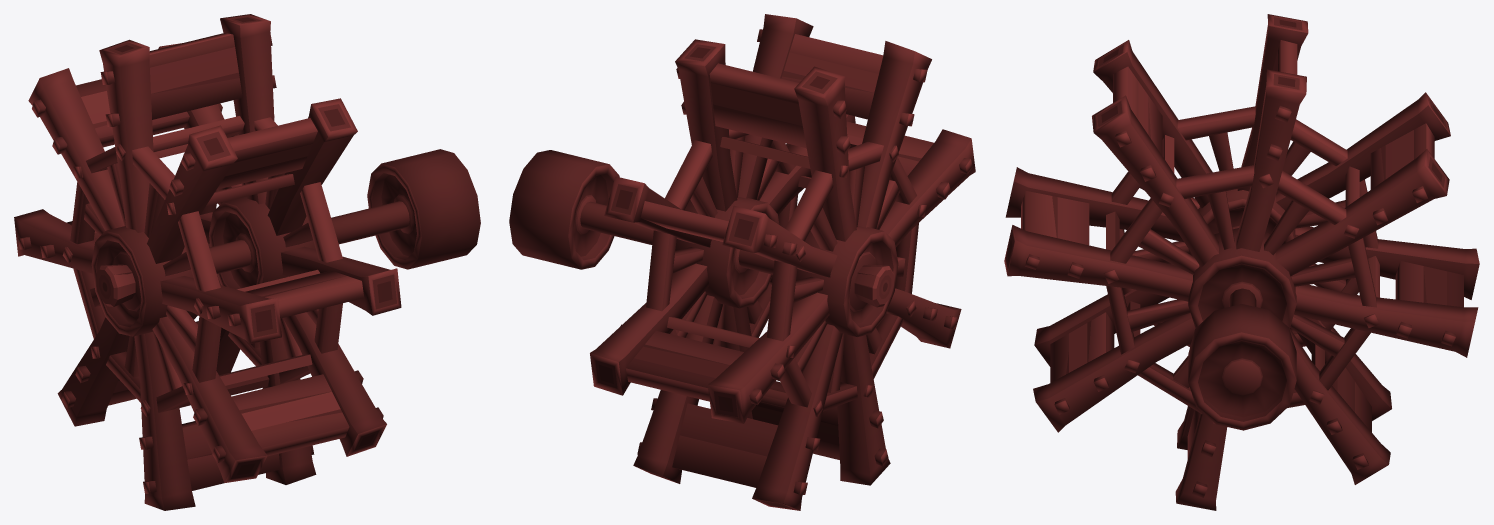
The model's file is Wheel.glb.
3 renders of one model, left to right at view 1: azimuth 30°, elevation 25°; view 2: azimuth 150°, elevation 25°; view 3: azimuth 270°, elevation 25°, orthographic.
Parts seen in each view (by area): view 1: wheel; view 2: wheel; view 3: wheel.
Part boxes in pixels (<box>): wheel: <box>14,14,480,510</box>; wheel: <box>509,14,975,510</box>; wheel: <box>1004,14,1479,510</box>.
Bounding box in the file's own units: 3.51 × 4.16 × 4.18.
Materials: 1 (1 with a texture image).
